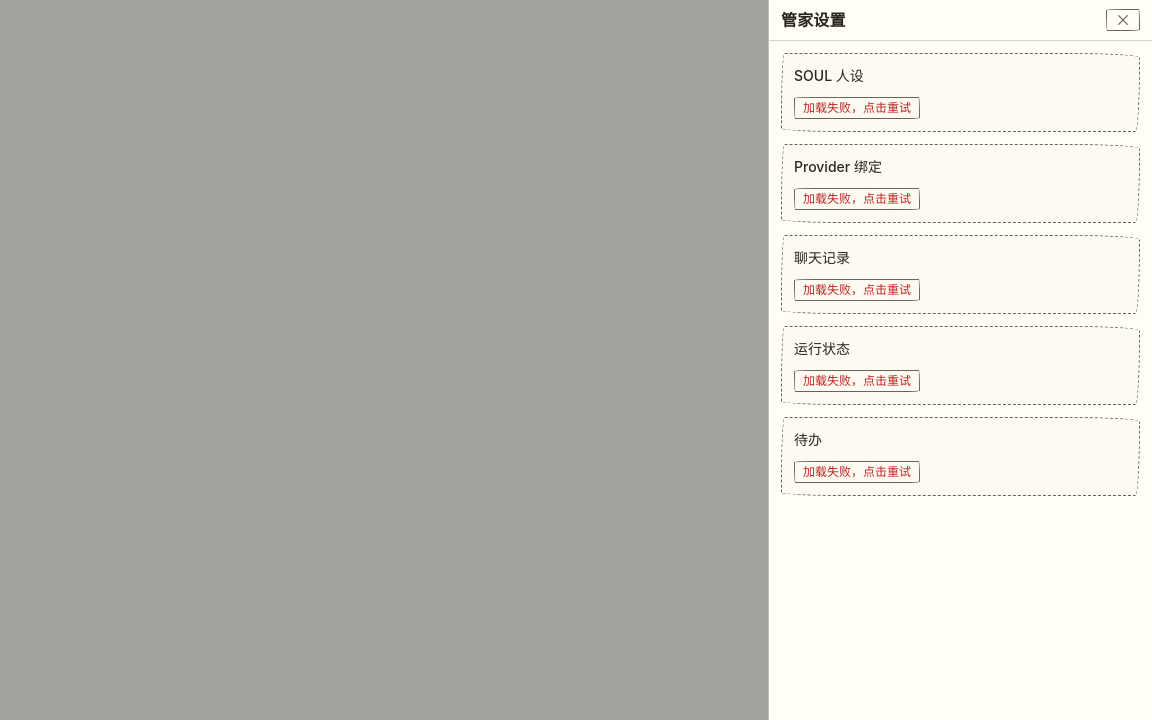
it: StewardSettingsPanel — slide-over panel › recovers all sections via section-level retry after settings load failure
This screenshot has width=1152, height=720.
Click the button "加载失败，点击重试" below "SOUL 人设": x=857, y=108 794,97 -> 920,119
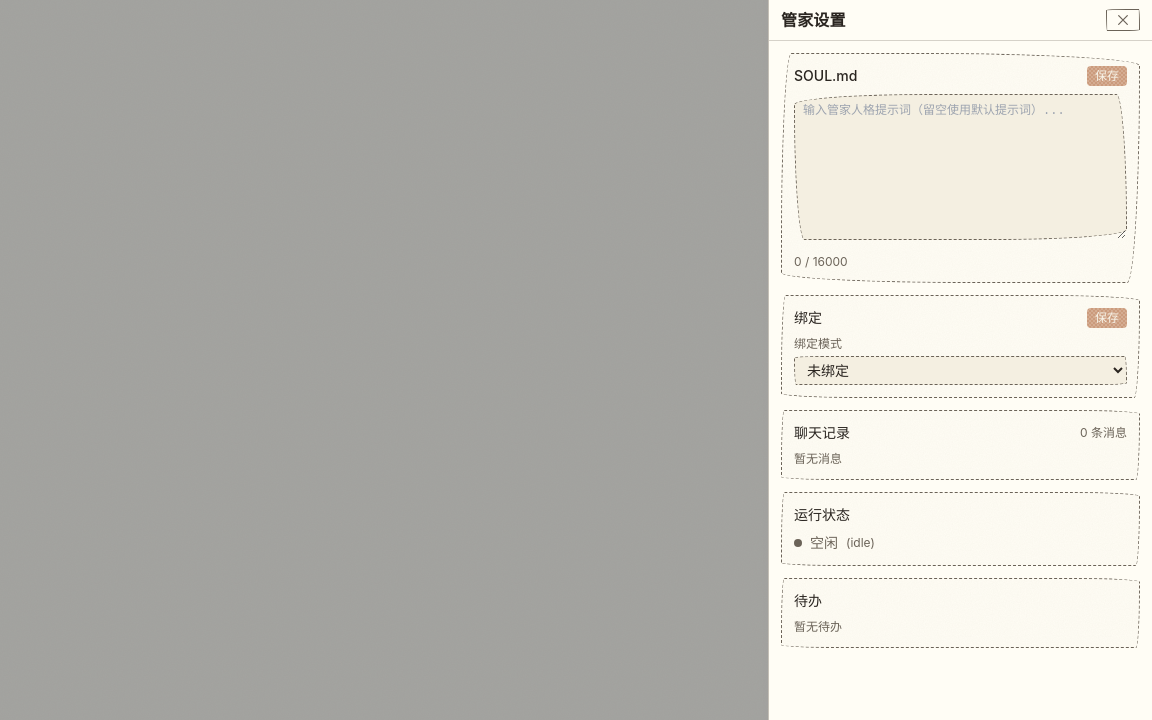
Expected: the heading "聊天记录" is shown, 794,423 -> 850,443
Result: the heading "SOUL.md" is shown at 794,66 -> 857,86
Result: the heading "绑定" is shown at 794,308 -> 822,328
